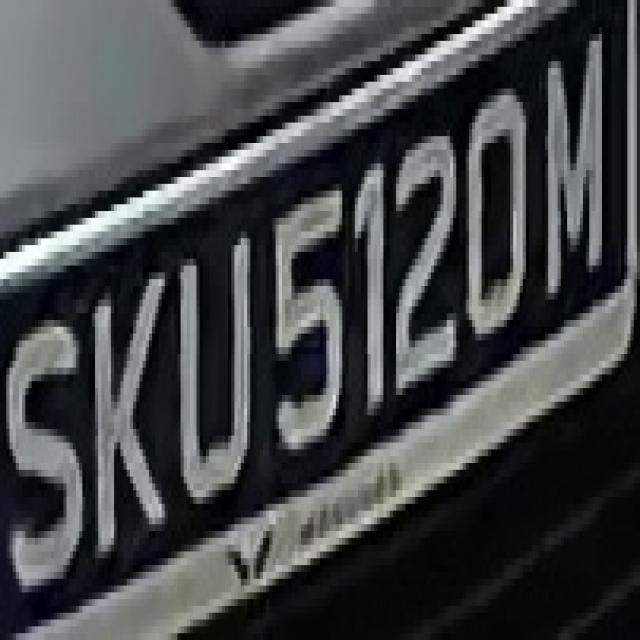0: (460, 82, 536, 361)
1: (342, 170, 390, 429)
2: (386, 130, 466, 416)
5: (263, 190, 342, 470)
K: (76, 266, 174, 552)
M: (529, 14, 615, 320)
S: (10, 300, 89, 606)
U: (174, 211, 270, 511)
